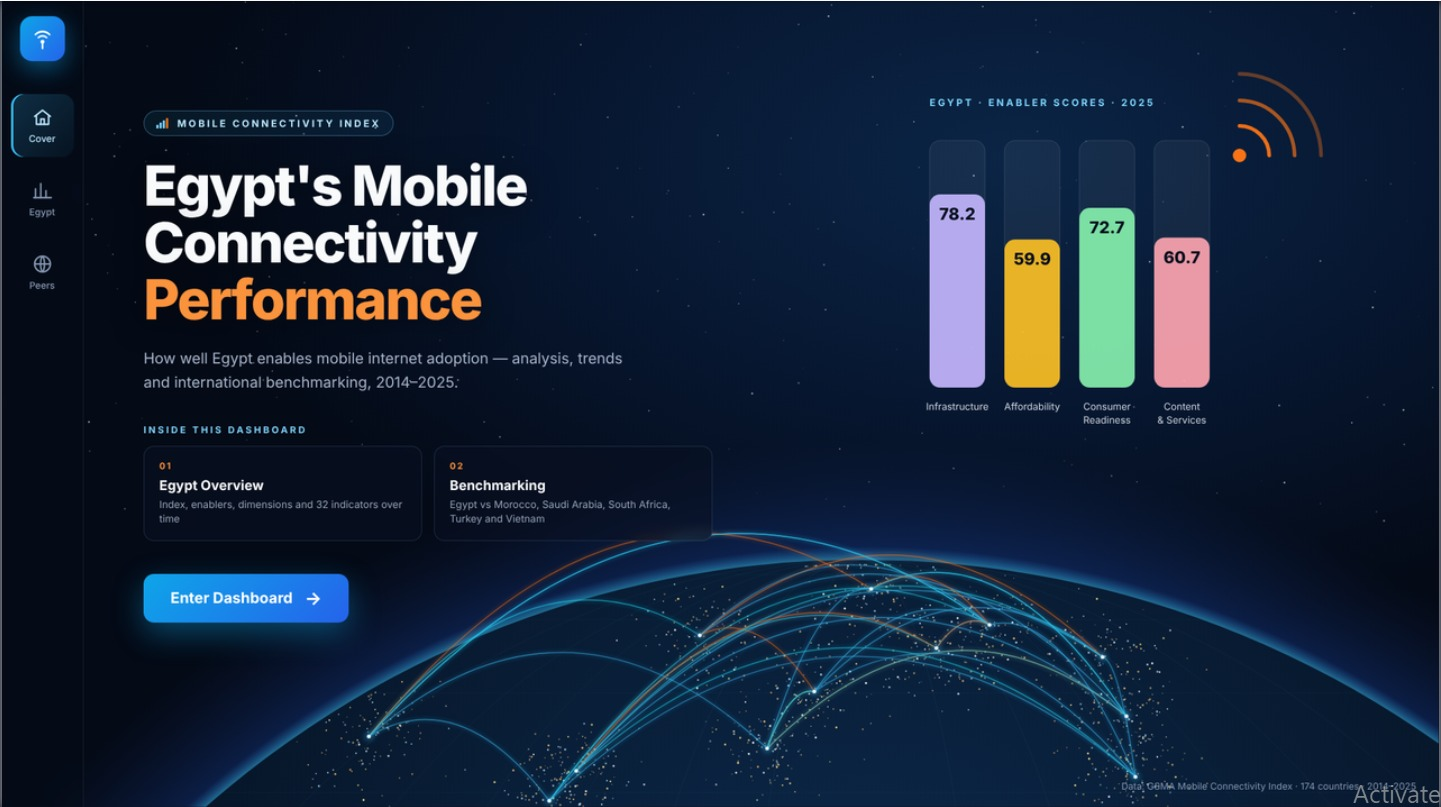

This screenshot's page, from the dashboard's own definition file:
{"tool":"powerbi","page":{"name":"Cover","canvas":[1280,720],"ordinal":0},"visuals":[{"type":"actionButton","box":[126.7,509.1,182.2,44.6],"z":0},{"type":"actionButton","box":[9.6,149.6,56.3,54.9],"z":1000},{"type":"actionButton","box":[9.6,214.1,56.3,59],"z":2000},{"type":"actionButton","box":[126.7,393.3,248.5,85.7],"z":3000},{"type":"actionButton","box":[385.6,393.8,244.3,85.1],"z":4000}]}

Visuals, with their boxes on the page's 1280x720 design canvas (x1, y1, x2, y2). These are canvas units, not pixel positions in the 1441x807 screenshot, which may show the page scaled, cropped or inside an application window:
actionButton: region(127, 509, 309, 554)
actionButton: region(10, 150, 66, 204)
actionButton: region(10, 214, 66, 273)
actionButton: region(127, 393, 375, 479)
actionButton: region(386, 394, 630, 479)
